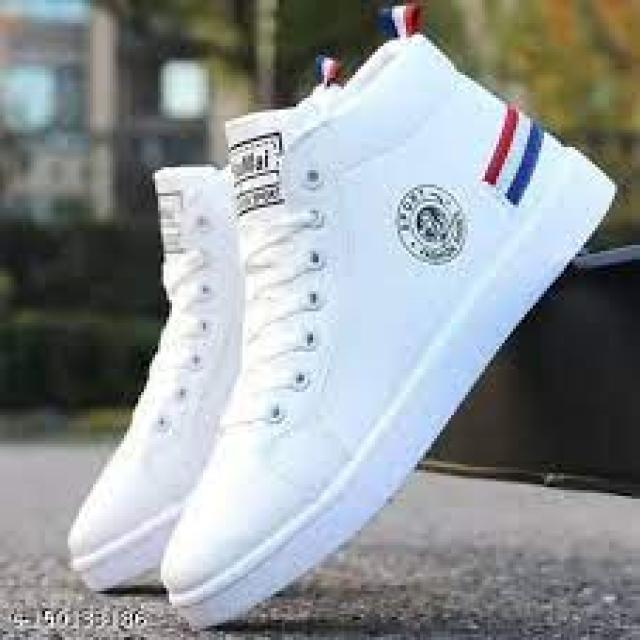shoe: (158, 16, 621, 634), (68, 142, 316, 602)
